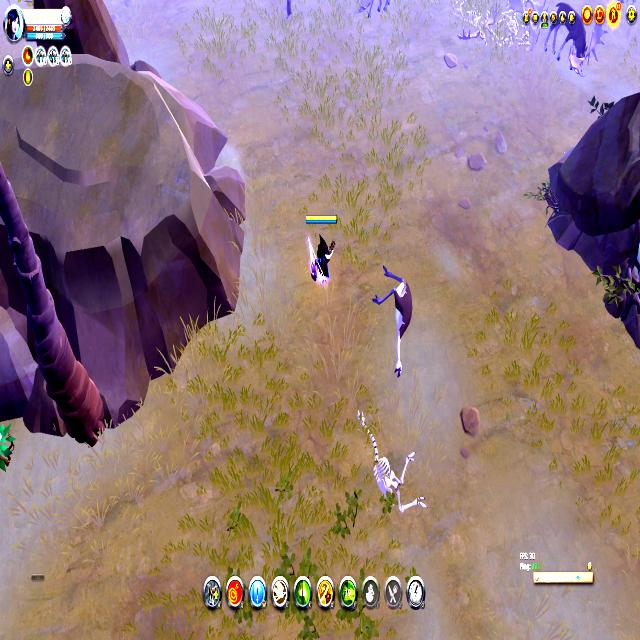hide: (0, 417, 15, 473)
mob: (371, 262, 415, 383)
ore: (538, 0, 610, 80)
red: (303, 210, 339, 294)
